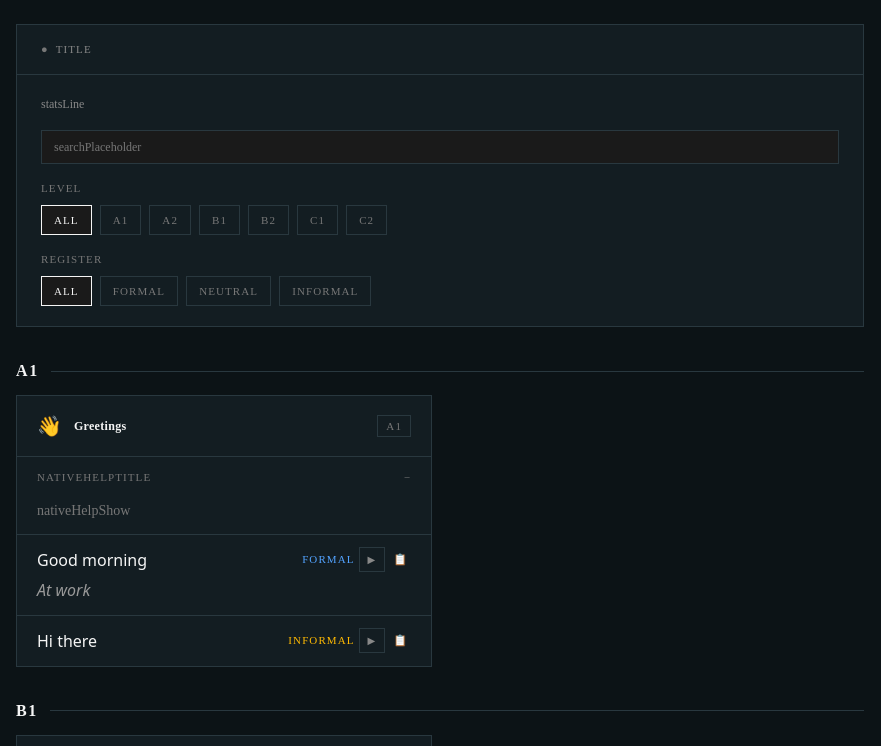
Test: PhrasebookPage › renders native help content after generation succeeds
Expected: the text "Greetings" is shown, [74,419,126,433]
Click the button "nativeHelpShow" at [84, 510], box [37,500,130,520]
(page scrolled)
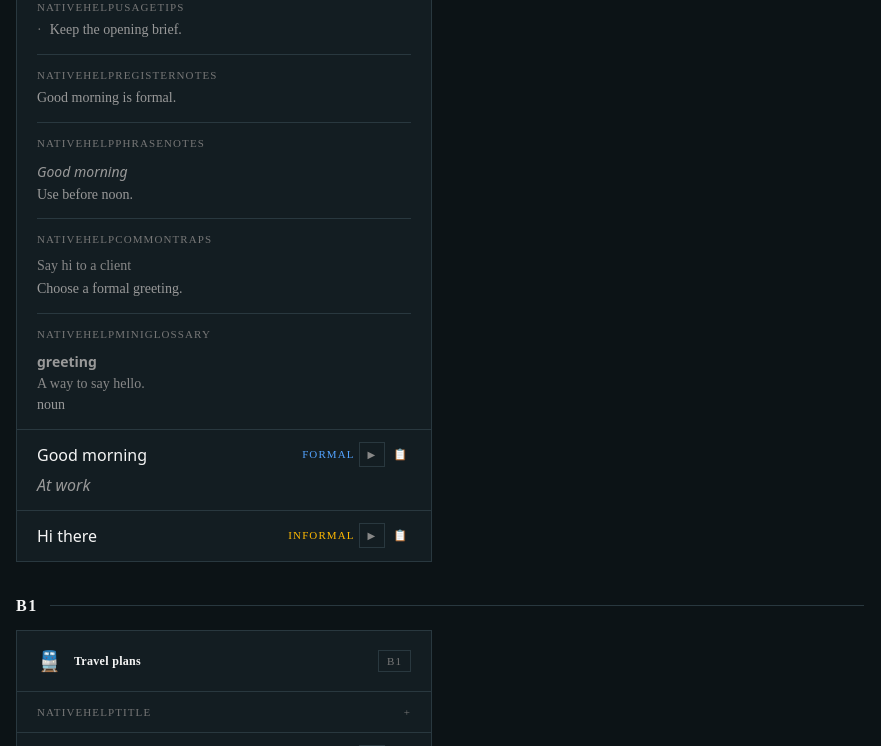
Expected: the list item "Keep the opening brief." is shown, [50,22,182,37]
Expected: the text "Good morning is formal." is shown, [37,90,176,105]
Expected: the text "Use before noon." is shown, [37,186,133,202]
